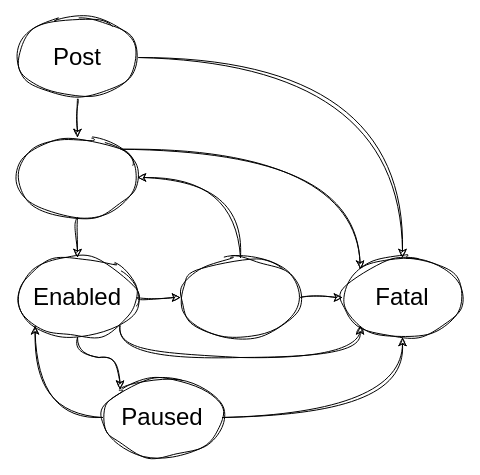
The diagram is 480 pixels wide and 475 high, and some of its shapes have lost their labels. Each missing label, with the centre of its shape:
"Waiting" goes at point 77,177.
"Warning" goes at point 240,297.
